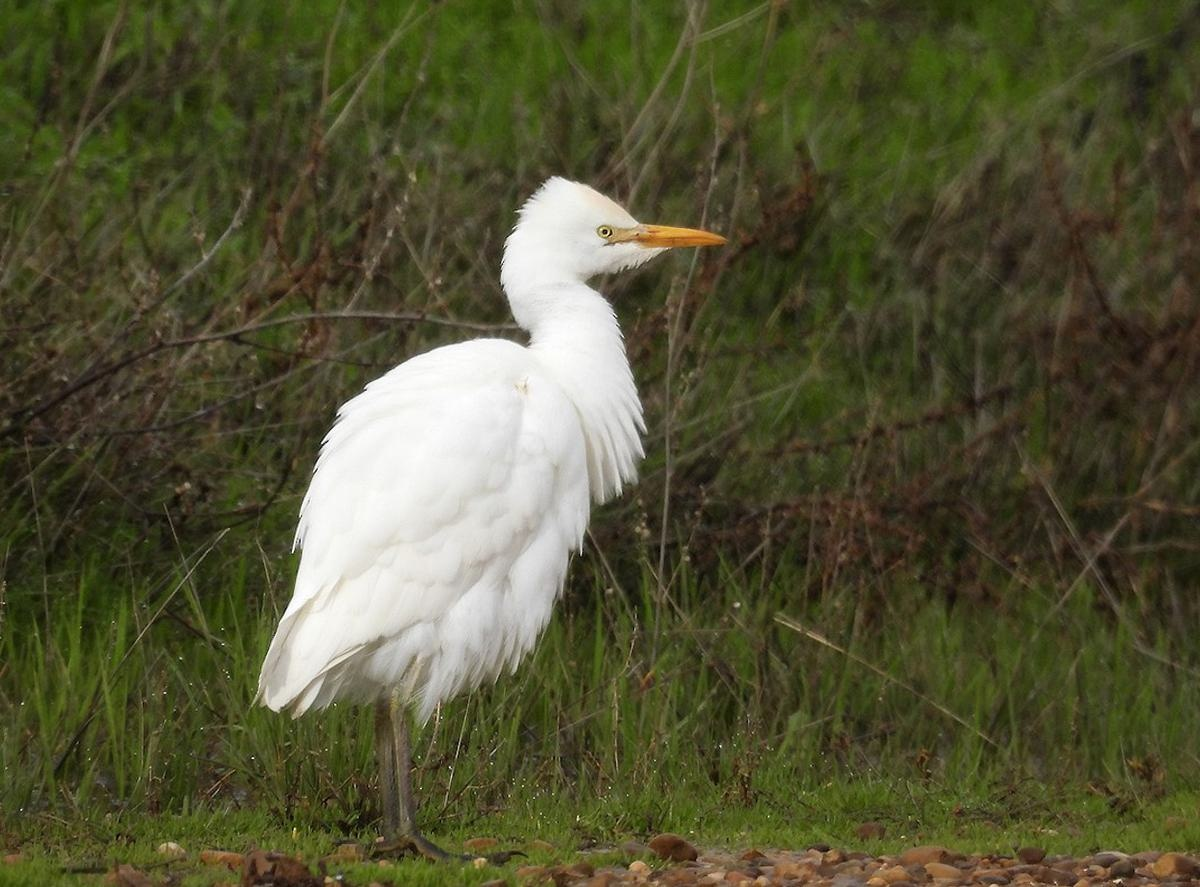egret: (248, 178, 736, 831)
